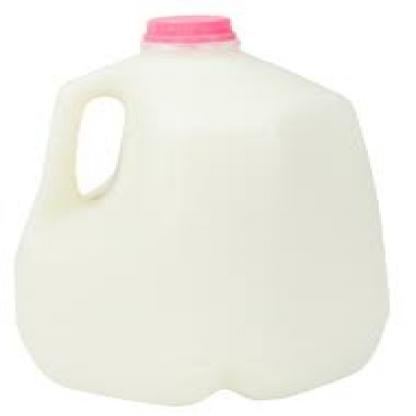trash: (16, 16, 386, 403)
